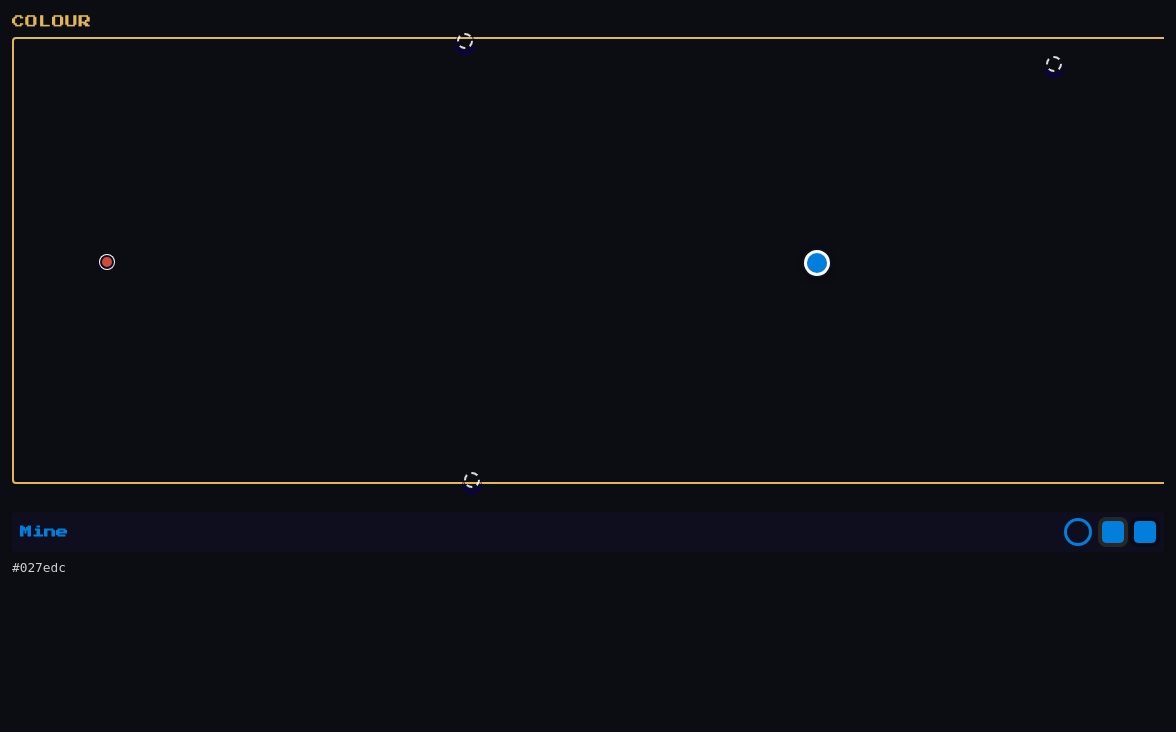
Test: ColorPicker › names a zone under the mouse again once a tap's label has gone
Press the mouse on the element with test id "color-picker-window" at (588,261), box [12,37,1164,484]
Wait 3000 ms
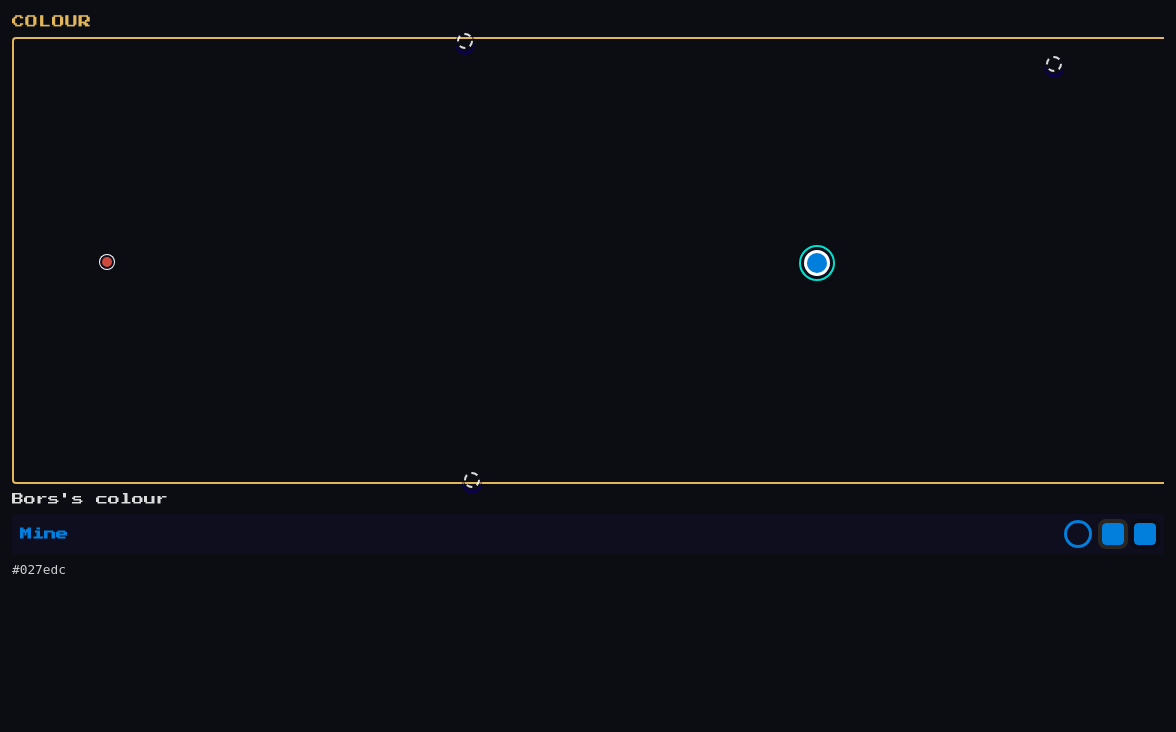
Expected: the text "Bors's colour" is shown, [12,493,168,505]
